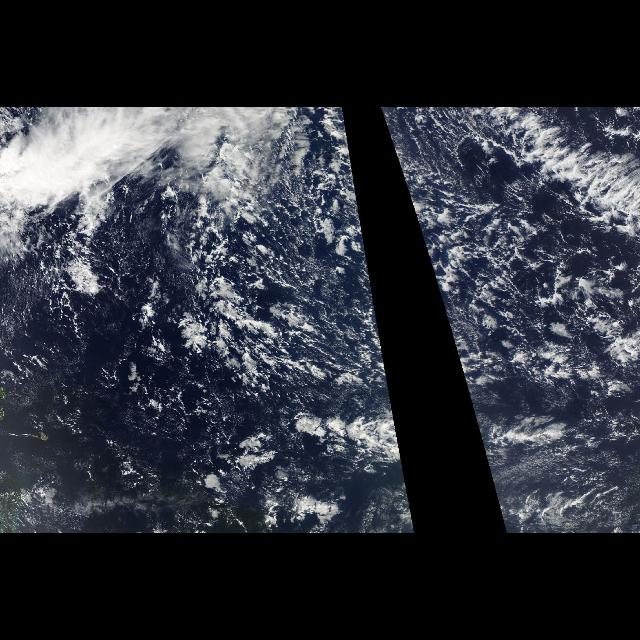Gravel: (404, 143, 638, 420), (163, 180, 394, 420)
